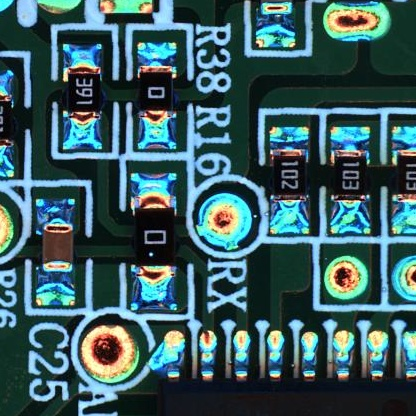spot: (79, 325, 139, 384), (195, 192, 252, 247), (323, 1, 392, 44), (321, 255, 369, 301), (391, 256, 416, 302)
